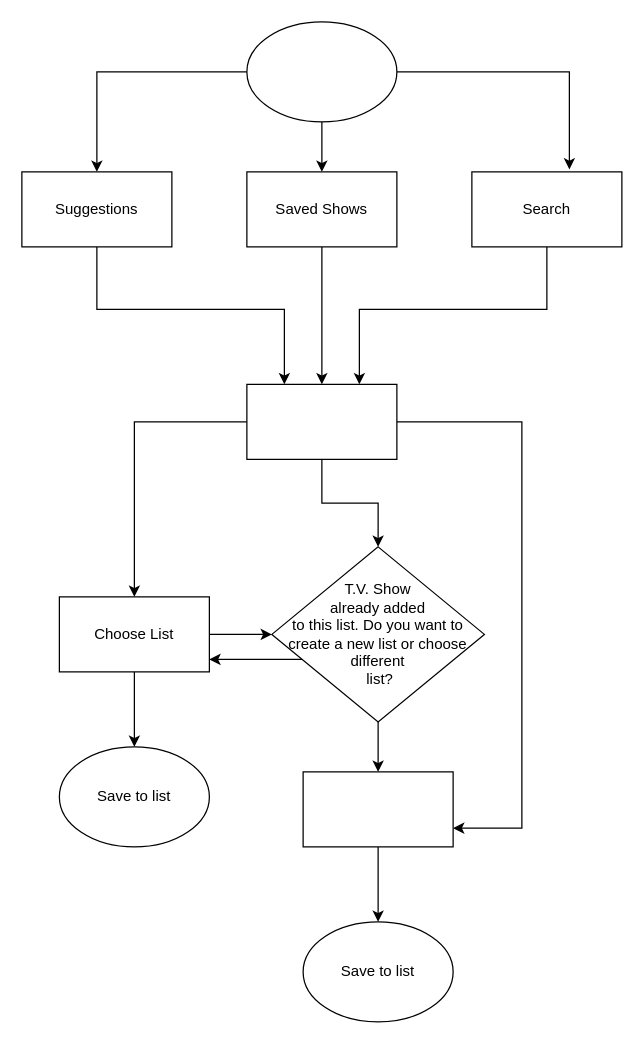
The diagram is 644 pixels wide and 1044 high, and some of its shapes have lost their labels. Here are the shapes that lost their labels. From the top down, the centre of each, then its label:
At (x=321, y=71): "Homepage".
At (x=321, y=421): "T.V. Show".
At (x=377, y=809): "Add new list".
